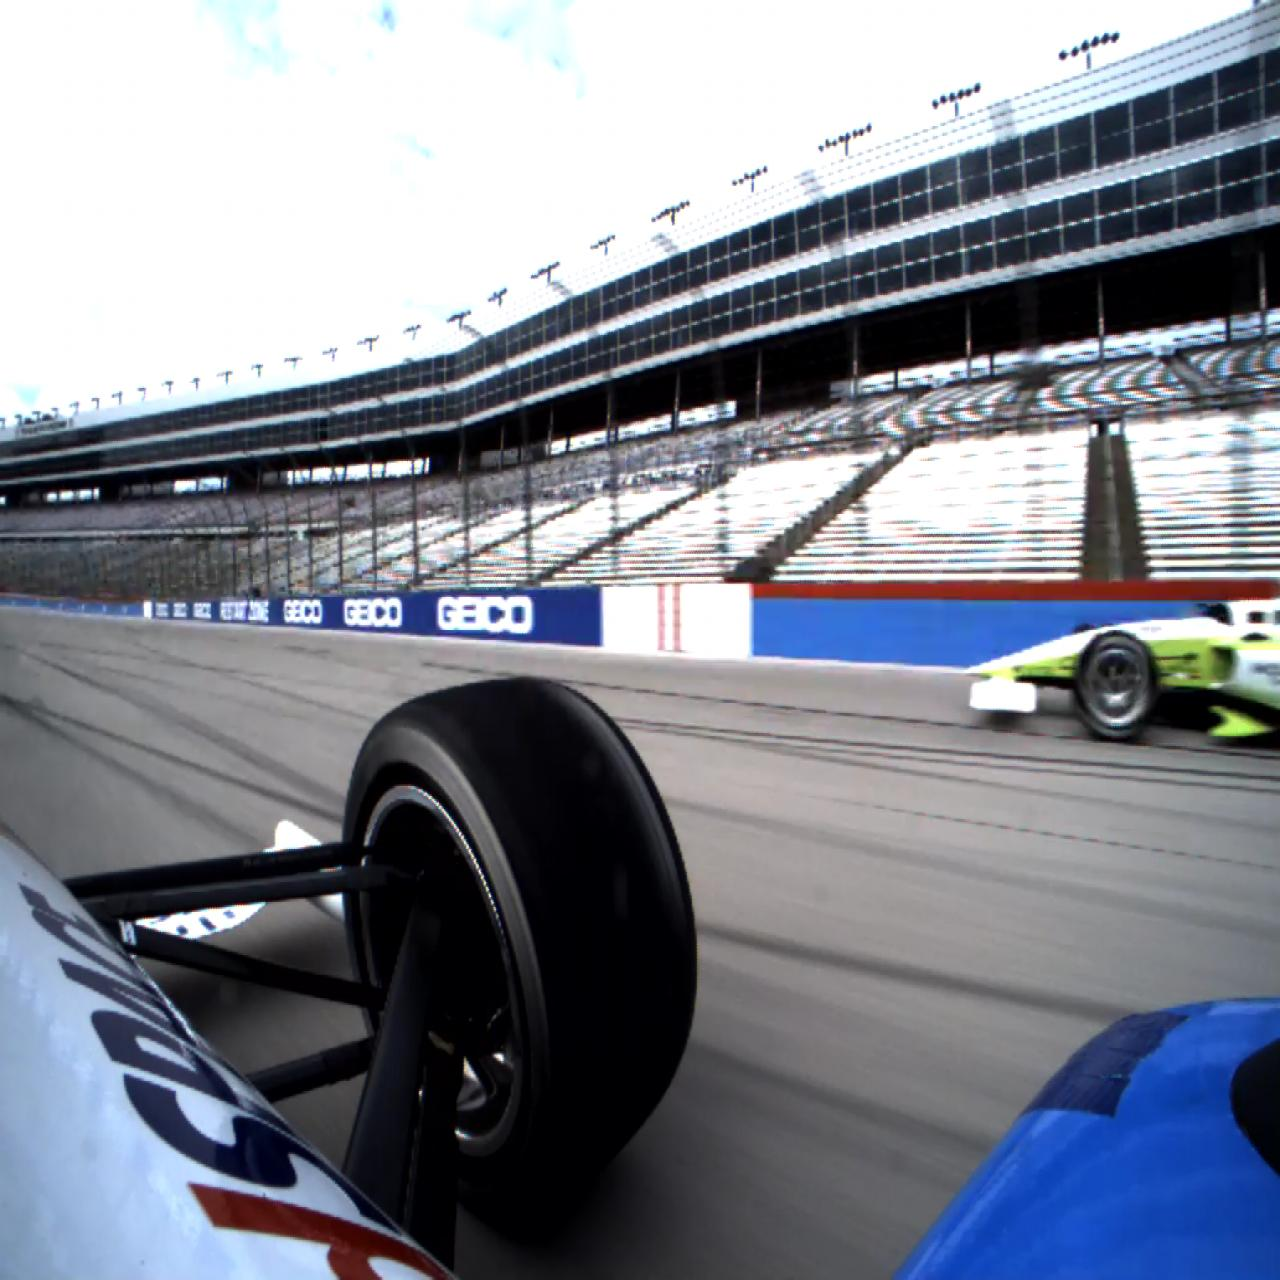AV: (968, 590, 1280, 747)
Wheel: (343, 676, 697, 1214), (1076, 629, 1160, 744)
